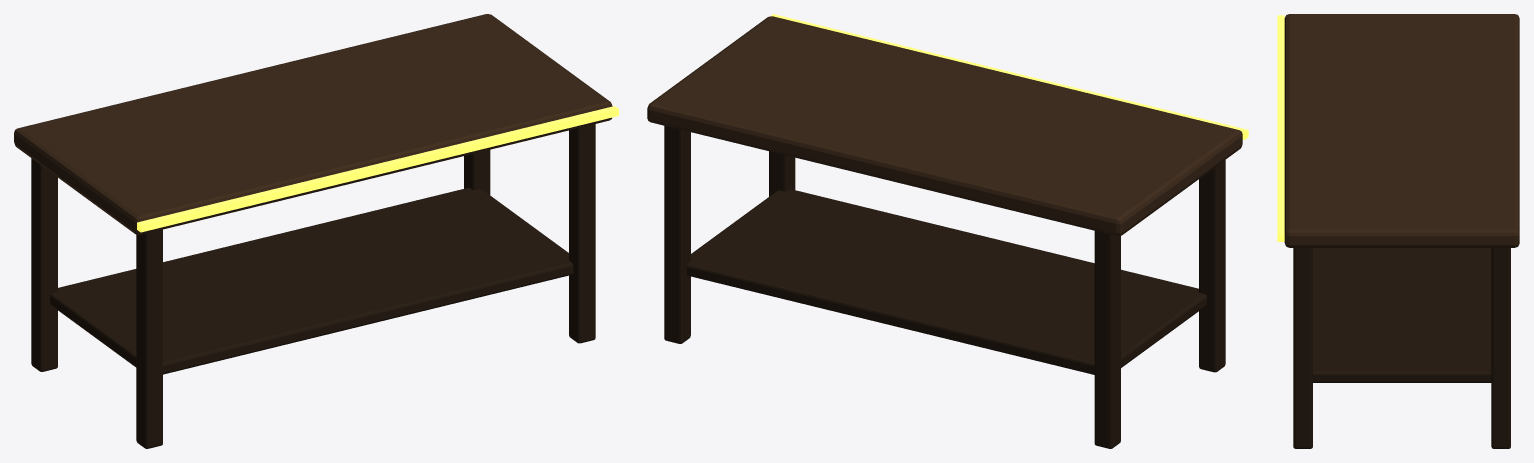
The model's file is side_table.glb.
The picture shows the model from 3 angles, left to right: view 1: azimuth 30°, elevation 25°; view 2: azimuth 150°, elevation 25°; view 3: azimuth 270°, elevation 25°; orthographic projection. The views are drawn at different scales.
Visible parts, largest first — view 1: top, shelf, leg-1-1, leg1-1, edge, leg-11, leg11; view 2: top, shelf, leg-11, leg11, leg-1-1, edge, leg1-1; view 3: top, shelf, leg11, leg1-1, edge.
Boxes of the visible parts, x1,y1,x2,y2 form: top: (14, 14, 612, 234); shelf: (50, 187, 573, 374); leg-1-1: (136, 229, 162, 448); leg1-1: (569, 124, 595, 343); edge: (137, 106, 618, 232); leg-11: (31, 158, 57, 371); leg11: (464, 150, 490, 194); top: (647, 16, 1242, 235); shelf: (686, 189, 1206, 374); leg-11: (1094, 231, 1120, 448); leg11: (664, 126, 690, 343); leg-1-1: (1199, 160, 1225, 372); edge: (770, 14, 1248, 139); leg1-1: (769, 151, 795, 196); top: (1284, 14, 1519, 247); shelf: (1313, 248, 1491, 382); leg11: (1491, 248, 1510, 448); leg1-1: (1293, 248, 1312, 448); edge: (1277, 15, 1284, 241).
Bounding box in the file's own units: 2.1 × 1 × 0.98.
